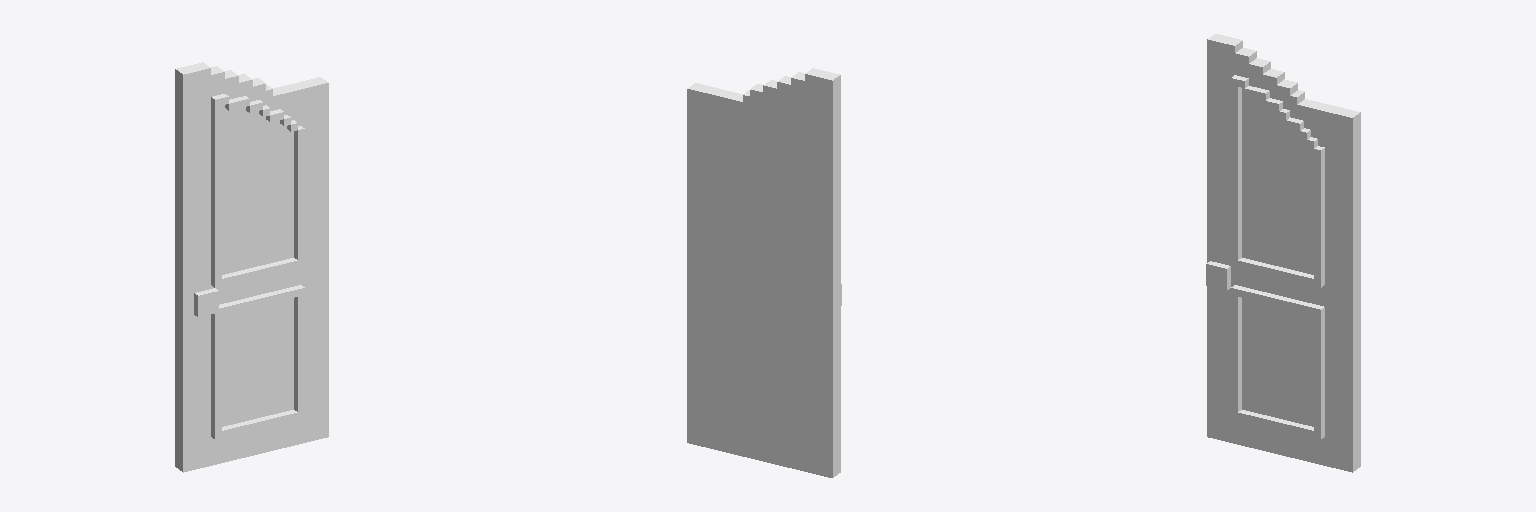
File: closet_door_R.obj
The picture shows the model from 3 angles: view 1: azimuth 30°, elevation 25°; view 2: azimuth 150°, elevation 25°; view 3: azimuth 330°, elevation 25°; orthographic projection.
Parts seen in each view (by area): view 1: object 1; view 2: object 1; view 3: object 1.
Boxes of the visible parts, x1=… form: object 1: x1=175, y1=62, x2=328, y2=472; object 1: x1=687, y1=68, x2=841, y2=477; object 1: x1=1206, y1=34, x2=1360, y2=472.
Size of the model in its own units: 2.1 by 5.5 by 0.4.